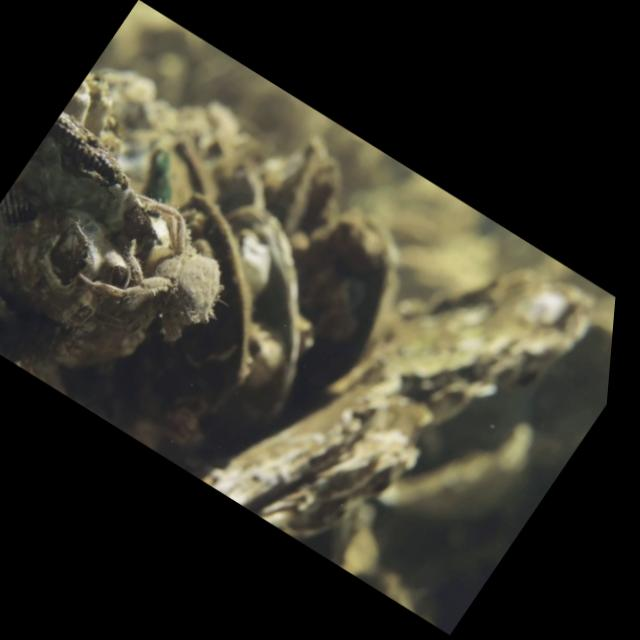Oyster-Indeterminate: (316, 267, 599, 426), (267, 208, 400, 441)
Oyster-Open: (118, 192, 305, 469), (207, 373, 442, 538)
